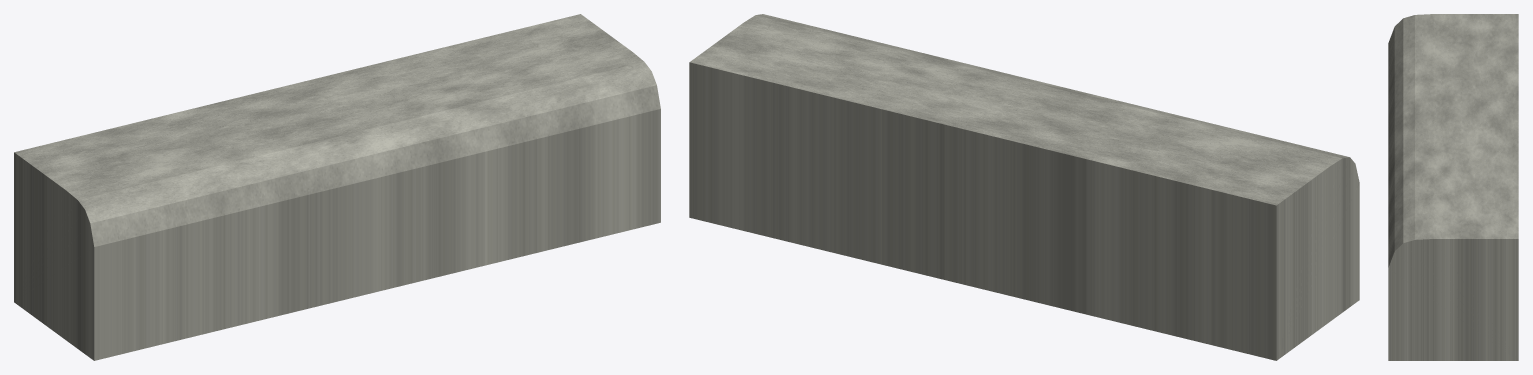
The model's file is PZ_Curb_1m.glb.
The picture shows the model from 3 angles, left to right: view 1: azimuth 30°, elevation 25°; view 2: azimuth 150°, elevation 25°; view 3: azimuth 270°, elevation 25°; orthographic projection. The views are drawn at different scales.
Visible parts, largest first — view 1: PZ_Curb_1m__Curb_Stone; view 2: PZ_Curb_1m__Curb_Stone; view 3: PZ_Curb_1m__Curb_Stone.
Boxes of the visible parts, bbox=[...] form: PZ_Curb_1m__Curb_Stone: bbox=[14, 14, 660, 360]; PZ_Curb_1m__Curb_Stone: bbox=[689, 14, 1359, 360]; PZ_Curb_1m__Curb_Stone: bbox=[1388, 14, 1518, 360].
Size of the model in its own units: 1 by 0.253 by 0.245.
Materials: 1 (1 with a texture image).
